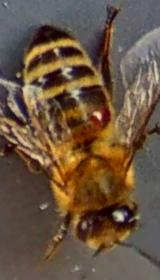varroa_mite: (75, 101, 111, 132)
